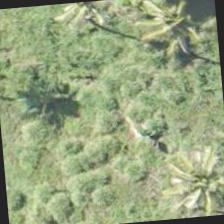Kelapa_Sawit: (92, 0, 189, 75), (142, 135, 223, 222), (23, 0, 118, 54)
